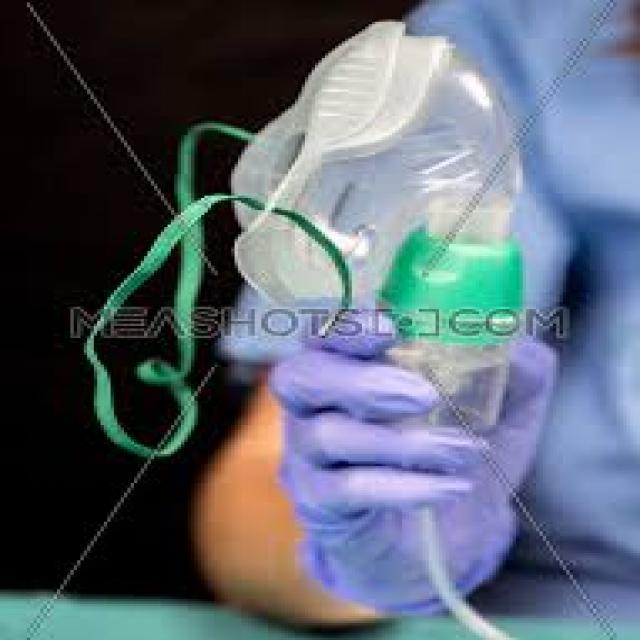oxygen_mask: (264, 50, 542, 410)
